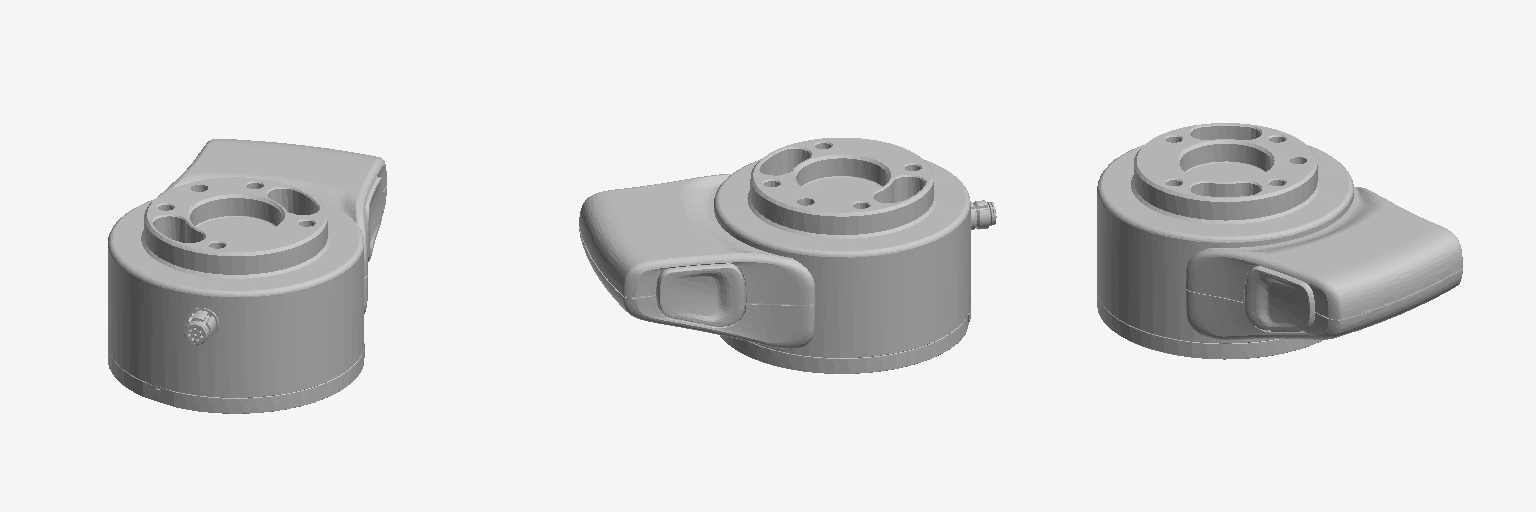
3 views of the same model, side by side, from view 1: azimuth 30°, elevation 25°; view 2: azimuth 150°, elevation 25°; view 3: azimuth 270°, elevation 25° (orthographic).
Visible parts, largest first — view 1: node0_Part__Mirroring.000, node4_Part__Mirroring004.001, node1_Part__Mirroring001.001, node7_Part__Mirroring007.000; view 2: node0_Part__Mirroring.000, node4_Part__Mirroring004.001, node3_Part__Mirroring003.000; view 3: node0_Part__Mirroring.000, node4_Part__Mirroring004.001, node1_Part__Mirroring001.001.
Part boxes in pixels (left/top/right/bottom): node0_Part__Mirroring.000: left=108, top=177, right=364, bottom=413; node4_Part__Mirroring004.001: left=158, top=139, right=386, bottom=313; node1_Part__Mirroring001.001: left=365, top=176, right=383, bottom=261; node7_Part__Mirroring007.000: left=184, top=308, right=218, bottom=342; node0_Part__Mirroring.000: left=714, top=138, right=970, bottom=373; node4_Part__Mirroring004.001: left=579, top=174, right=815, bottom=348; node3_Part__Mirroring003.000: left=656, top=263, right=745, bottom=326; node0_Part__Mirroring.000: left=1097, top=123, right=1353, bottom=359; node4_Part__Mirroring004.001: left=1186, top=187, right=1462, bottom=339; node1_Part__Mirroring001.001: left=1245, top=265, right=1314, bottom=331.
Size of the model in its own units: 0.1253 by 0.0548 by 0.1253.